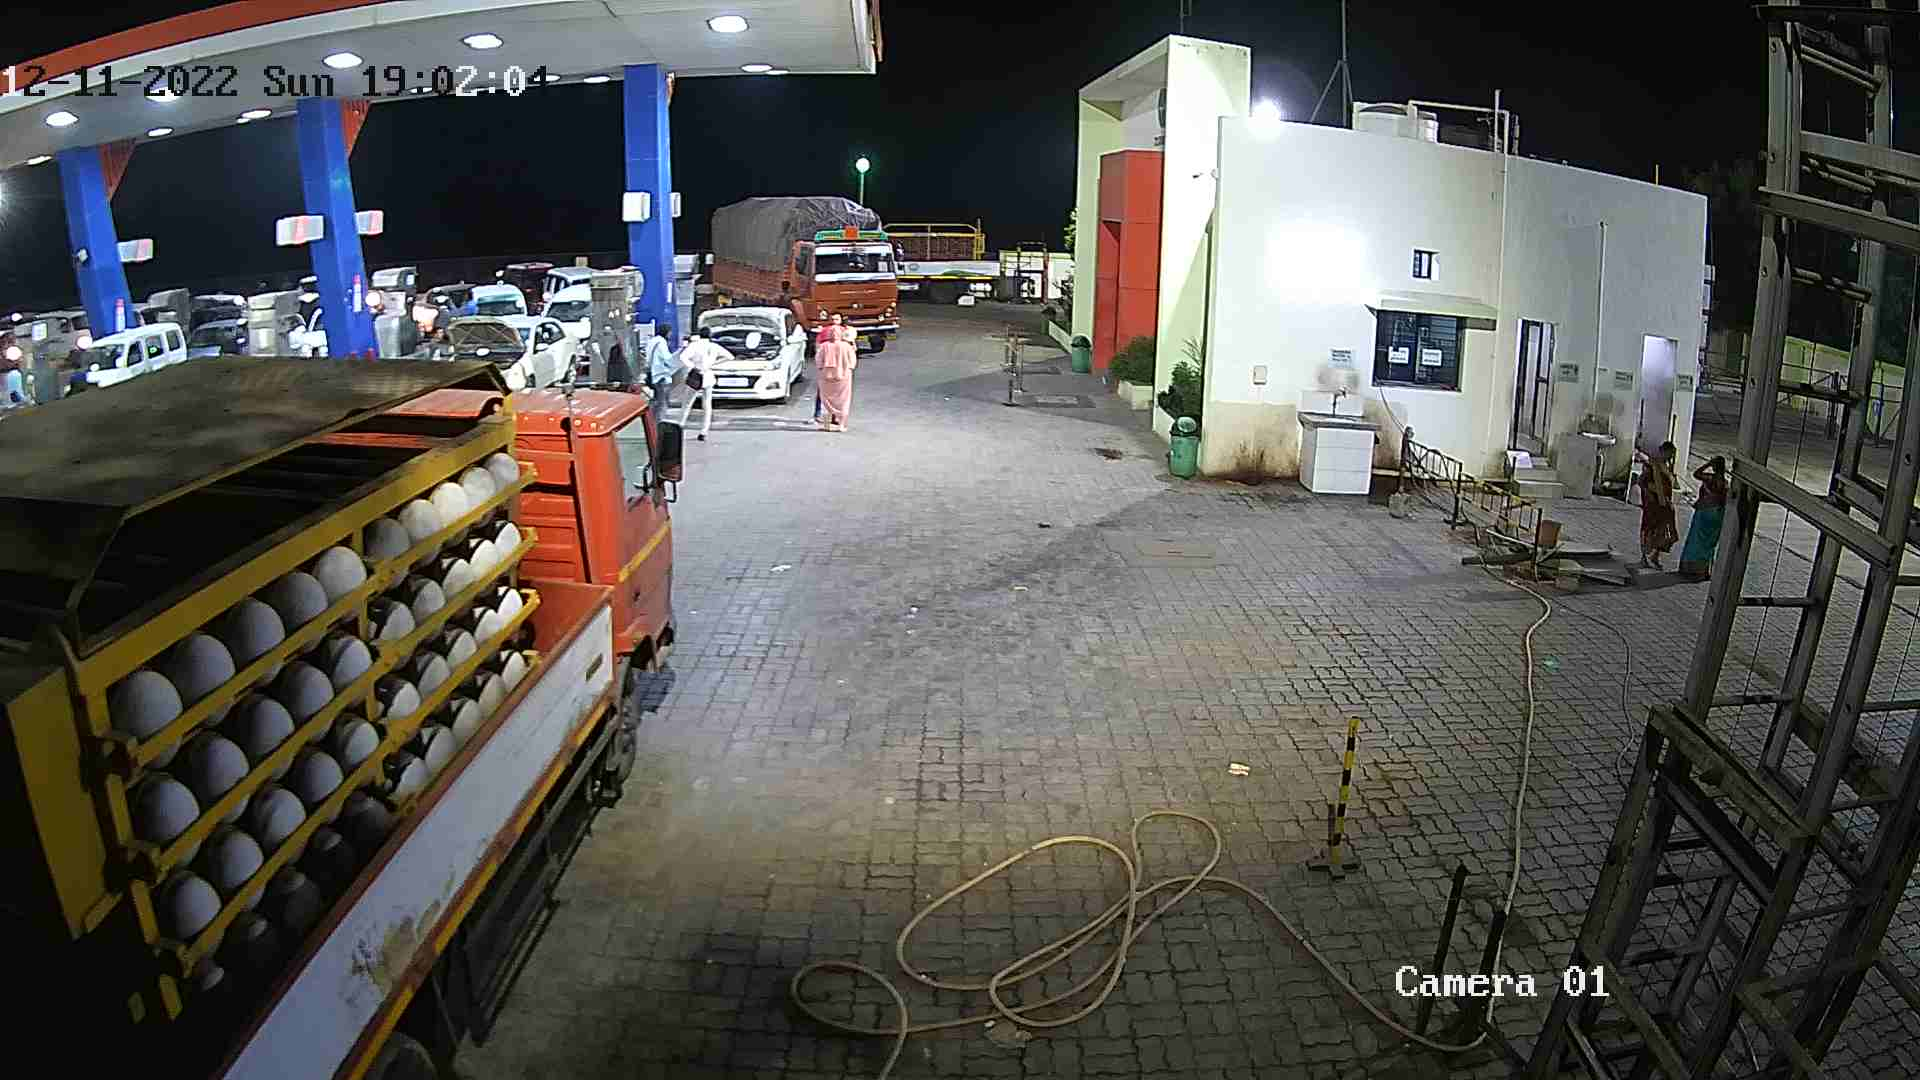Car: (409, 297, 599, 415), (662, 293, 815, 415), (49, 314, 195, 406), (527, 273, 601, 386), (401, 278, 480, 345), (531, 255, 607, 324), (181, 306, 257, 375), (26, 306, 105, 365), (280, 295, 344, 365), (464, 272, 539, 330), (496, 251, 551, 324), (665, 247, 737, 302), (116, 290, 177, 338), (178, 290, 257, 326), (282, 273, 334, 318), (353, 274, 392, 332), (0, 324, 28, 380), (0, 311, 40, 339)
HMV: (1, 330, 709, 1076), (696, 186, 913, 367), (876, 212, 1052, 314)
